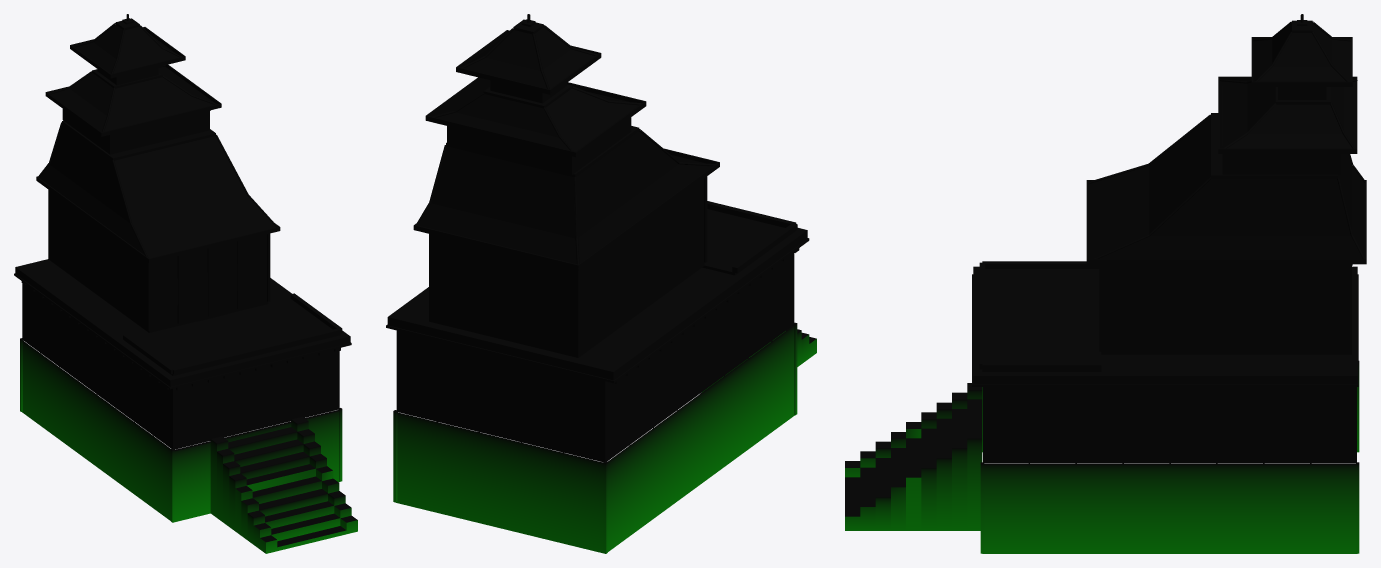
File: l_palacecore.glb
3 renders of one model, left to right at view 1: azimuth 30°, elevation 25°; view 2: azimuth 150°, elevation 25°; view 3: azimuth 270°, elevation 25°, orthographic. The views are drawn at different scales.
Visible parts, largest first — view 1: lod0; view 2: lod0; view 3: lod0.
Part boxes in pixels (<box>): lod0: <box>14,14,357,553</box>; lod0: <box>386,14,816,553</box>; lod0: <box>845,14,1366,553</box>.
Size of what is drawn, in the model's own units: 22.6 by 46.7 by 45.21.
